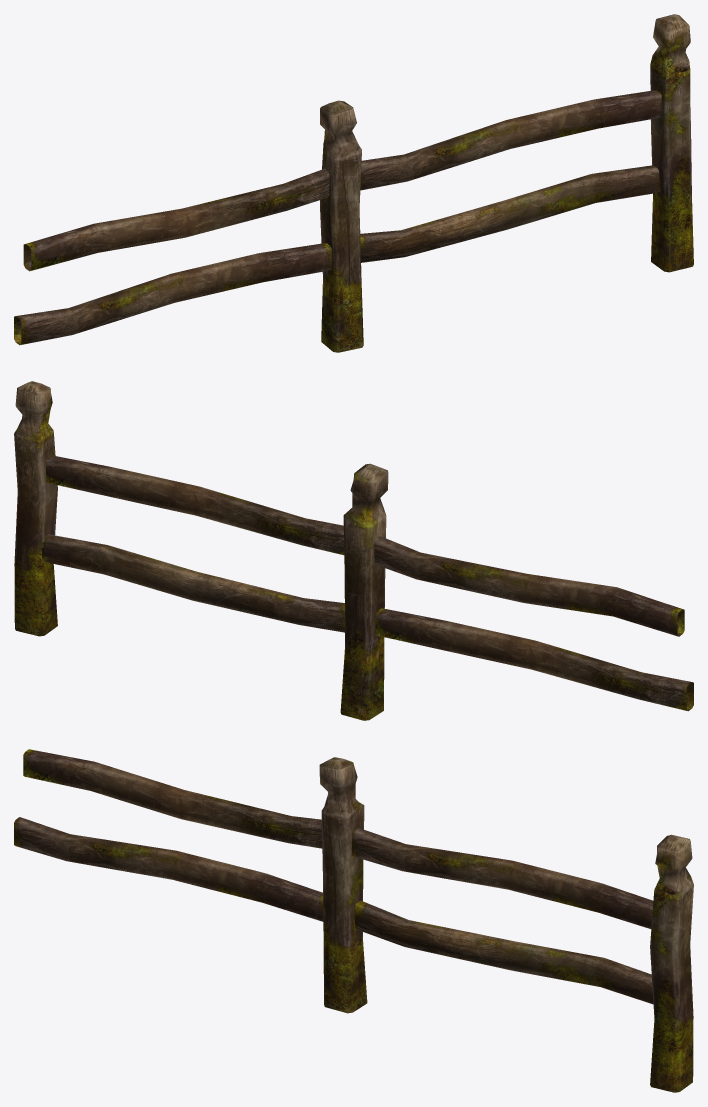
Rendered from CarvedFence.fbx.
3 views of the same model, one above another, from view 1: azimuth 30°, elevation 25°; view 2: azimuth 150°, elevation 25°; view 3: azimuth 330°, elevation 25° (orthographic).
Parts seen in each view (by area): view 1: LV_Common_Structure_CarvedFence01_SM_CNH; view 2: LV_Common_Structure_CarvedFence01_SM_CNH; view 3: LV_Common_Structure_CarvedFence01_SM_CNH.
Part boxes in pixels (box(x1,y1,x2,y2)): LV_Common_Structure_CarvedFence01_SM_CNH: box(14, 14, 693, 352); LV_Common_Structure_CarvedFence01_SM_CNH: box(14, 381, 693, 720); LV_Common_Structure_CarvedFence01_SM_CNH: box(14, 749, 693, 1092).
Size of the model in its own units: 68.17 by 24.05 by 3.58.
